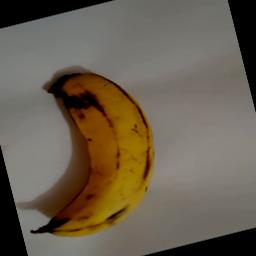Banana Unripe: (8, 58, 176, 243)
